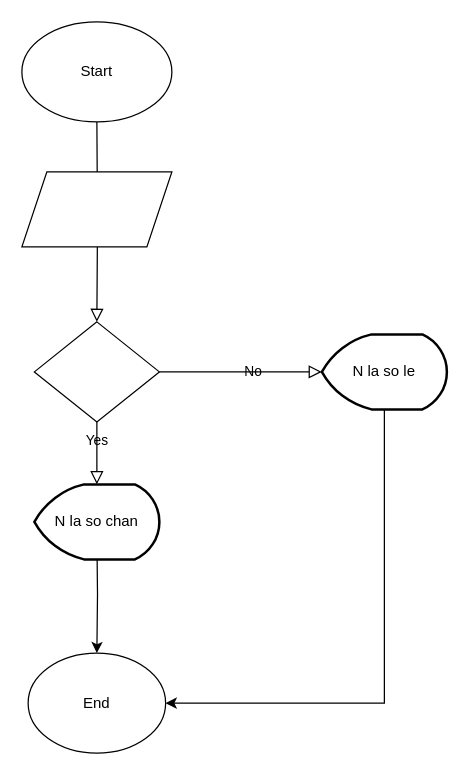
Some shapes in this 470 by 775 pixel diagram are drawn without their labels. Each missing label, with the box of its shape:
N % 2 = 0: (33, 321, 159, 422)
Nhap so bat ki N: (21, 171, 172, 247)
